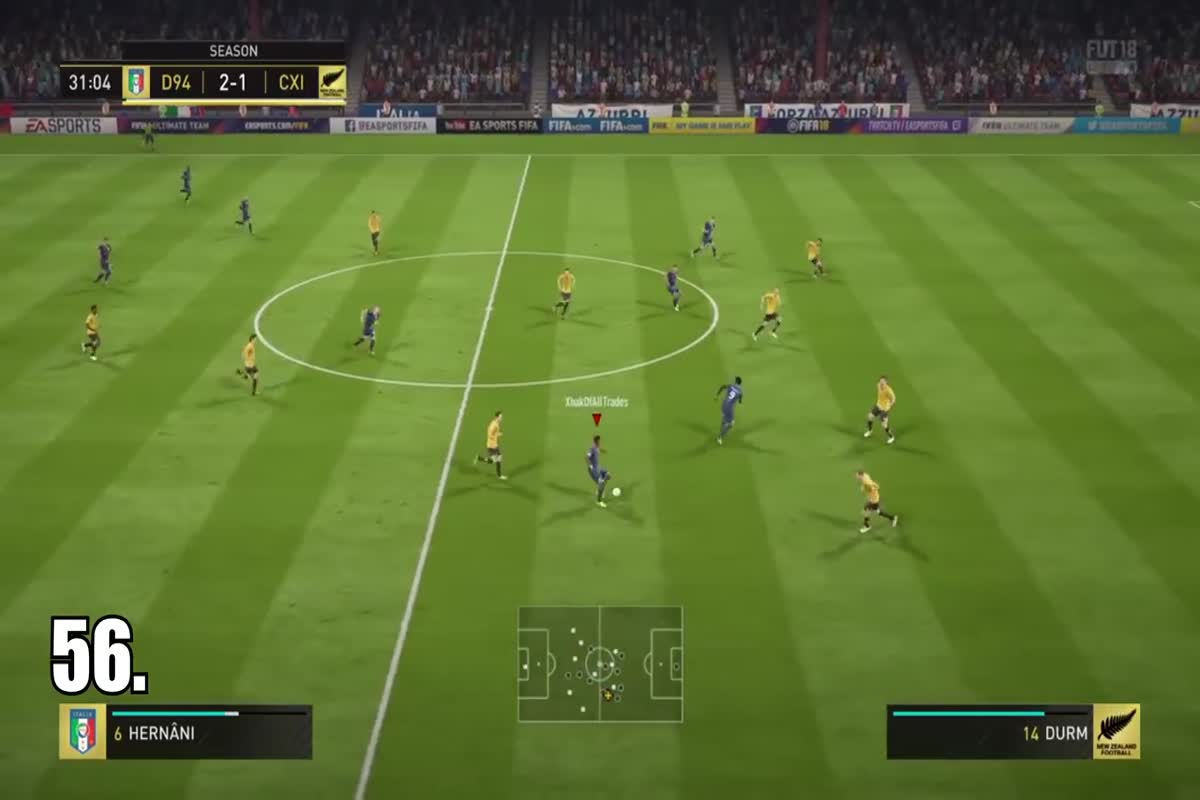ball: (609, 483, 630, 501)
